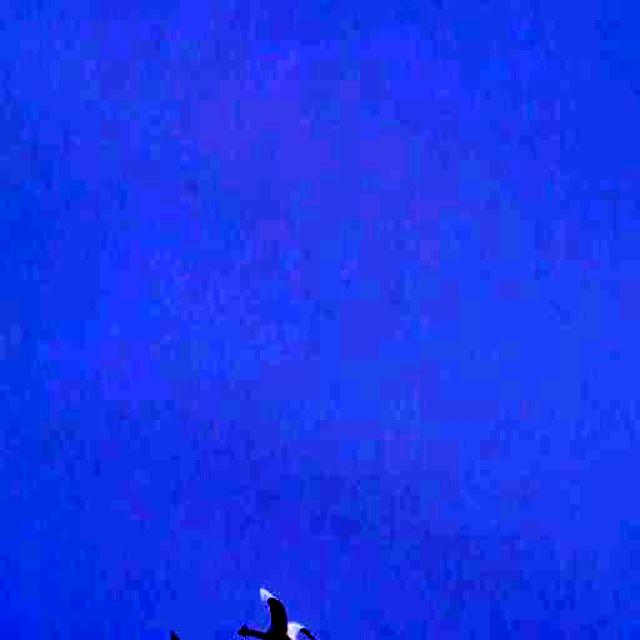airplane: (236, 572, 350, 640), (159, 614, 229, 640)
